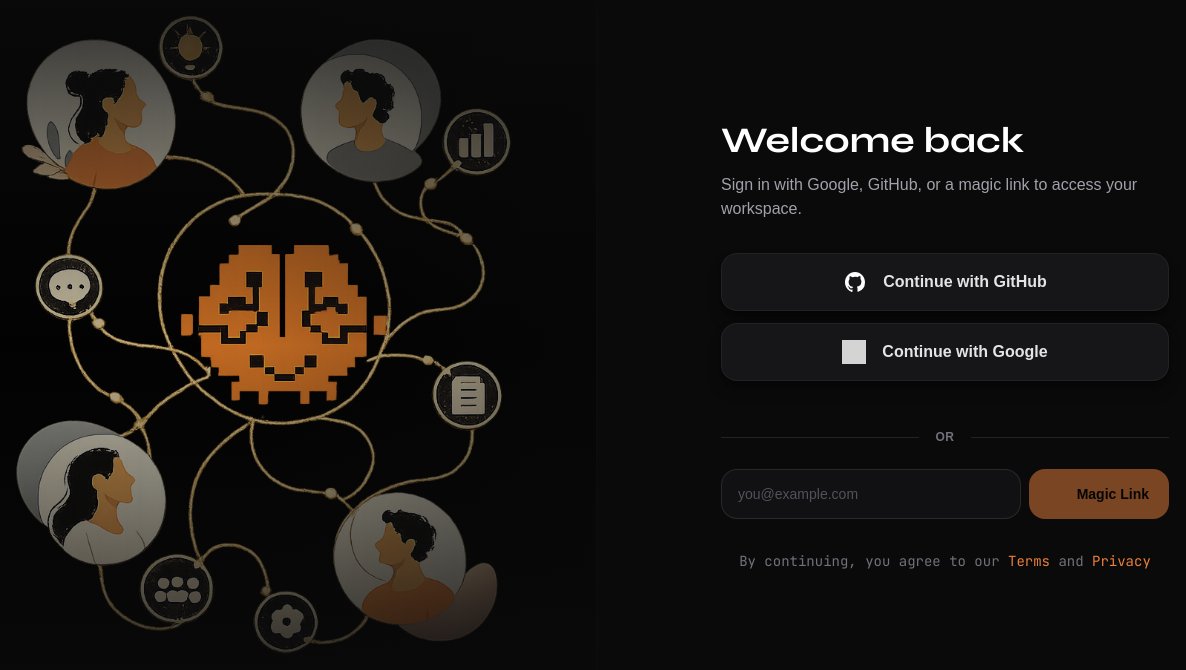
Login page › shows the two-factor challenge after OAuth requires it
Click the button "Continue with Google".
click(945, 352)  # box [721,323,1169,381]
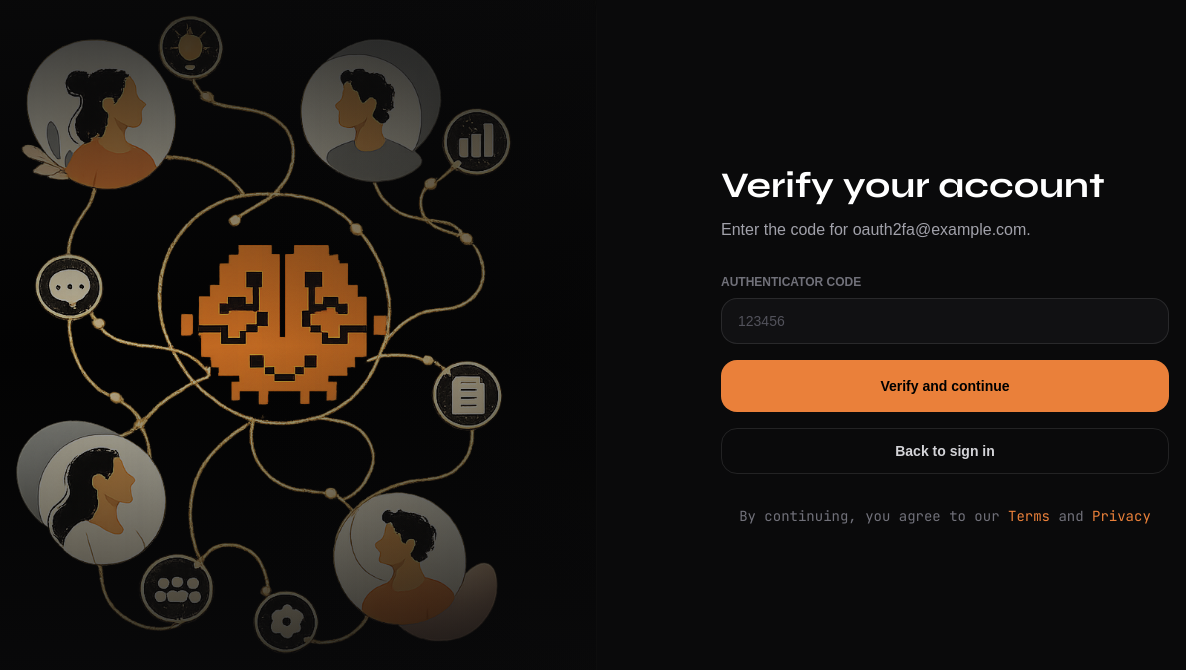
expect the heading "Verify your account" is shown: met, box [721,166,1169,206]
expect the text "Enter the code for oauth2fa@example.com." is shown: met, box [721,221,1031,238]
expect the field labelled "Authenticator code" is shown: met, box [721,298,1169,344]
